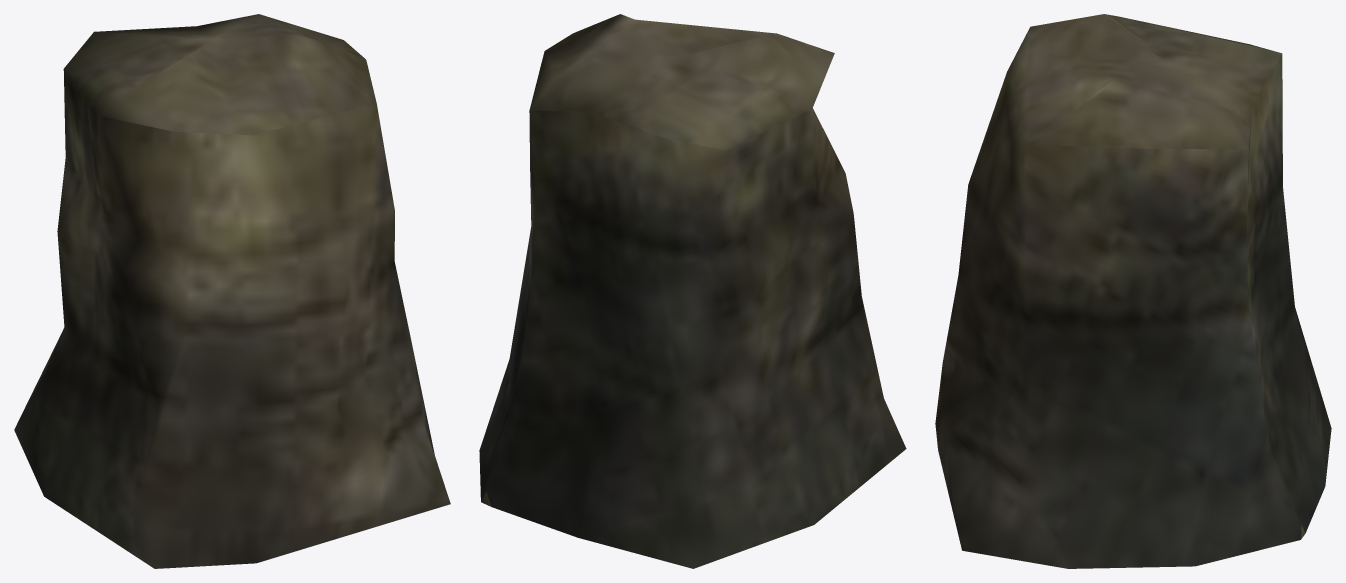
The picture shows the model from 3 angles, left to right: view 1: azimuth 30°, elevation 25°; view 2: azimuth 150°, elevation 25°; view 3: azimuth 270°, elevation 25°; orthographic projection.
Visible parts, largest first — view 1: cliff1; view 2: cliff1; view 3: cliff1.
Boxes of the visible parts, x1,y1,x2,y2 form: cliff1: (14, 14, 450, 568); cliff1: (479, 14, 906, 568); cliff1: (935, 14, 1331, 568).
Bounding box in the file's own units: 8.04 × 10.08 × 8.25.
Materials: 1 (1 with a texture image).
